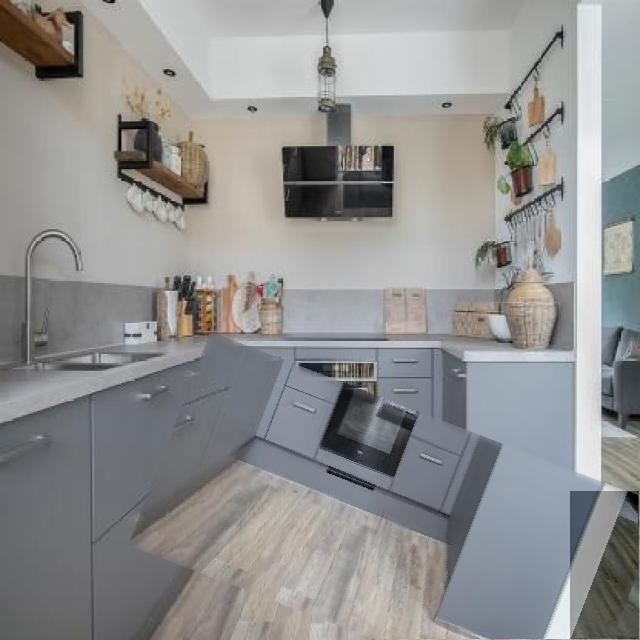floor: (128, 459, 472, 640), (571, 492, 639, 639)
